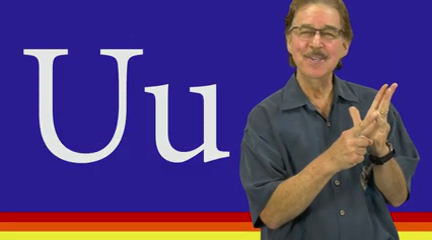U: (318, 77, 408, 179)
